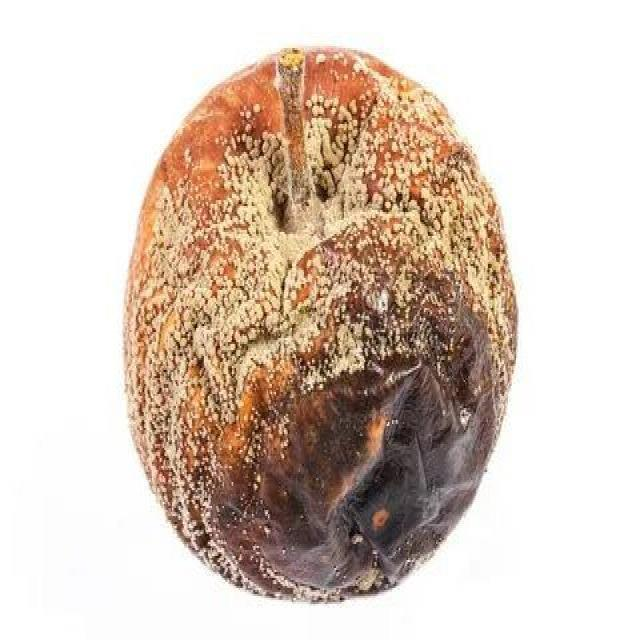Rotten: (125, 53, 507, 582)
